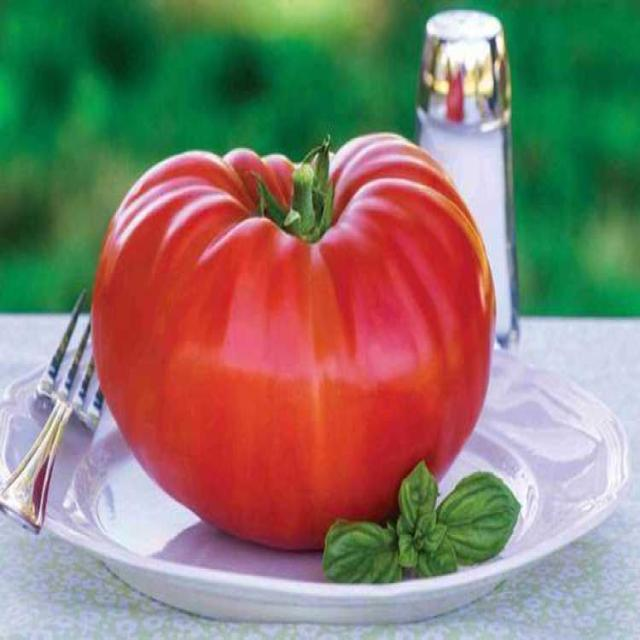kirmizi: (70, 106, 502, 562)
